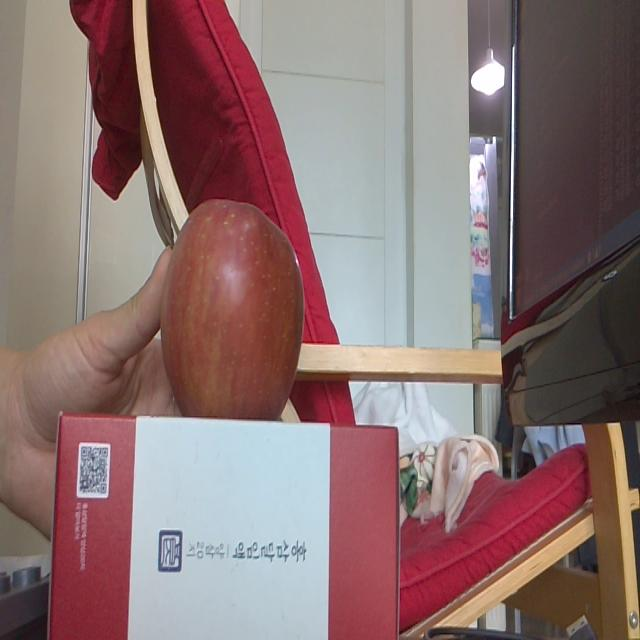apple: (162, 200, 304, 420)
